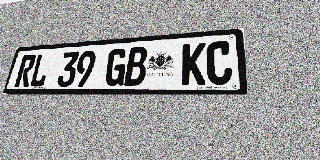3: (56, 51, 80, 87)
9: (73, 50, 97, 87)
B: (124, 46, 148, 86)
C: (206, 41, 232, 85)
G: (104, 48, 128, 86)
K: (181, 42, 206, 85)
L: (29, 53, 52, 87)
R: (14, 54, 37, 87)
